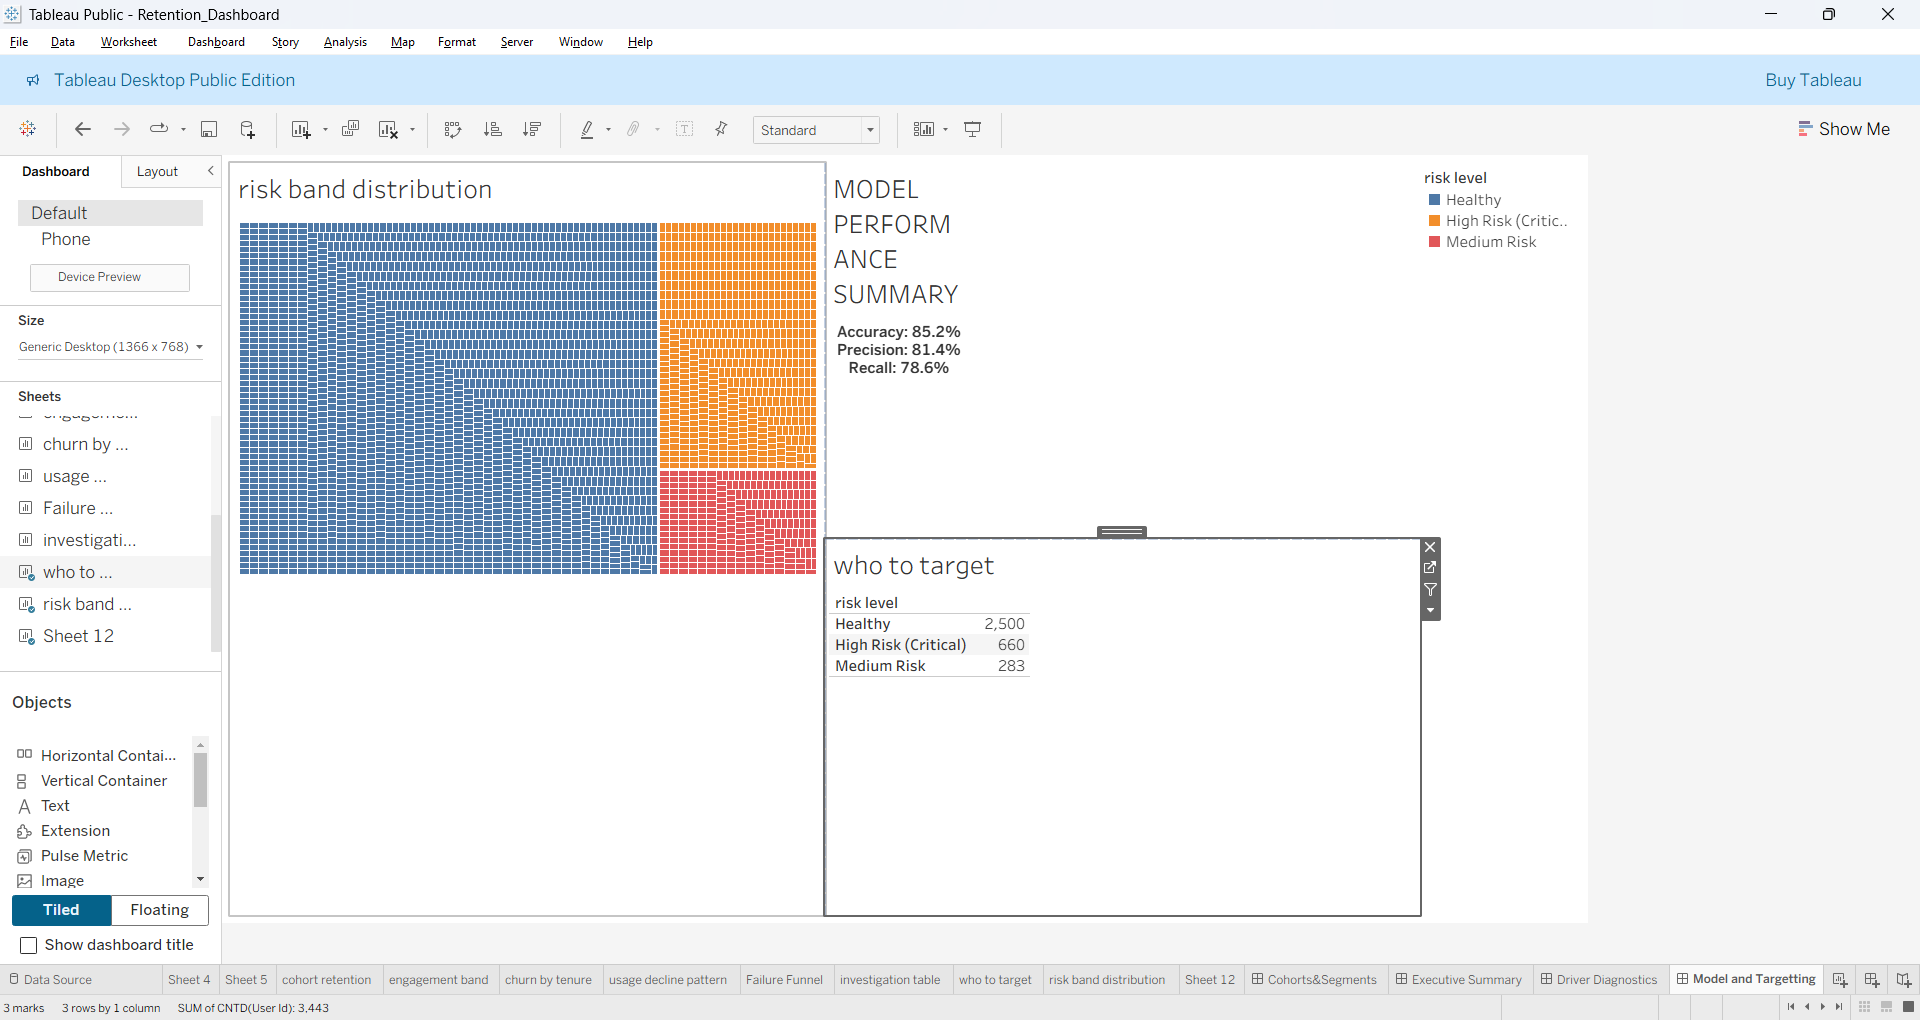

This screenshot's page, from the dashboard's own definition file:
{"tool":"tableau","page":{"name":"Model and Targetting","canvas":[1366,768],"ordinal":3},"visuals":[{"type":"worksheet","title":"risk band distribution","mark":"Automatic","box":[8,8,595,752]},{"type":"worksheet","title":"Sheet 12","mark":"Text","box":[603,8,595,376]},{"type":"legend","title":"risk band distribution","param":"[federated.00wlot00um8pih15n6jns1od7iq1].[none:Calculation_2433914167307956234:n","box":[1198,8,160,93]},{"type":"worksheet","title":"who to target","mark":"Automatic","rows":["Calculation_2433914167307956234"],"box":[603,384,595,376]}]}

Visuals, with their boxes on the page's 1366x768 design canvas (x1, y1, x2, y2). These are canvas units, not pixel positions in the 1920x1020 screenshot, which may show the page scaled, cropped or inside an application window:
"risk band distribution" worksheet: x1=8, y1=8, x2=603, y2=760
"Sheet 12" worksheet (Text marks): x1=603, y1=8, x2=1198, y2=384
"risk band distribution" legend: x1=1198, y1=8, x2=1358, y2=101
"who to target" worksheet: x1=603, y1=384, x2=1198, y2=760
